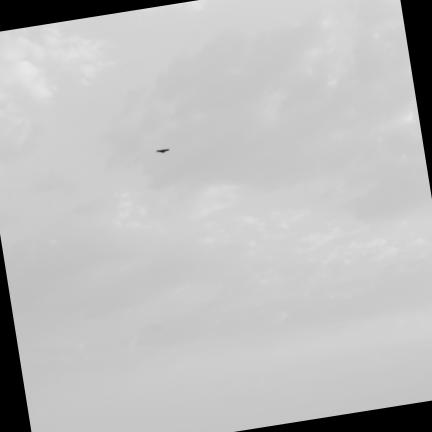Shahed: (156, 148, 170, 153)
